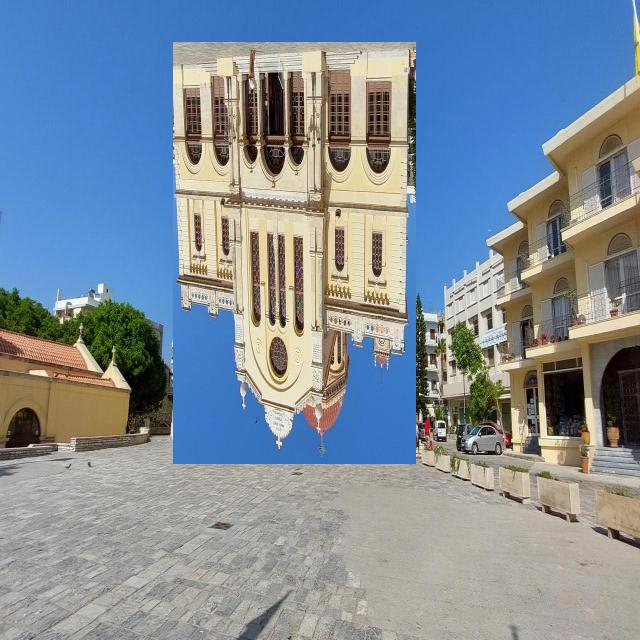Agios Minas: (174, 43, 417, 465)
